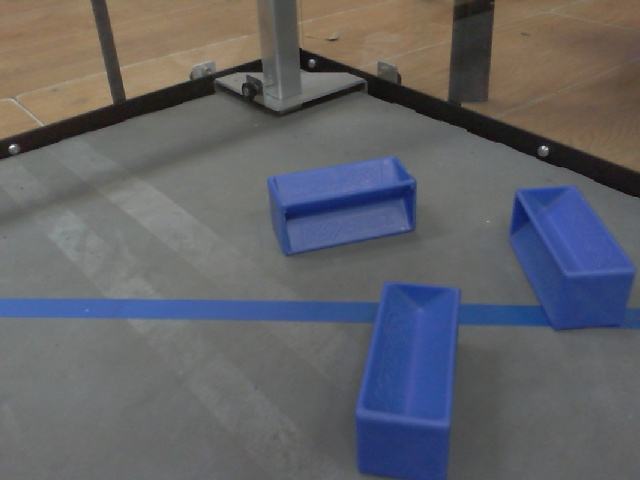BlueSample: (351, 278, 464, 480), (505, 178, 633, 336), (258, 155, 420, 260)
